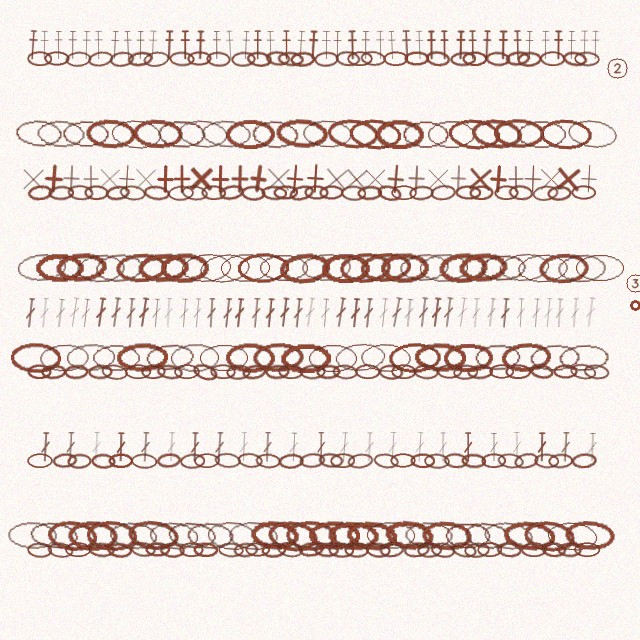chain: (197, 250, 253, 286), (481, 518, 536, 554), (522, 518, 577, 554), (565, 116, 619, 152), (266, 518, 320, 554), (126, 518, 181, 553), (461, 518, 514, 554), (27, 518, 80, 553), (383, 518, 436, 553), (109, 117, 163, 151), (326, 117, 380, 151), (348, 117, 402, 151), (447, 117, 501, 151), (470, 117, 524, 151), (502, 519, 556, 553), (545, 519, 599, 553), (46, 518, 98, 553), (179, 251, 234, 284), (176, 117, 229, 151), (278, 251, 331, 285), (107, 519, 160, 553), (147, 519, 200, 553), (345, 519, 398, 553), (15, 251, 69, 284), (497, 251, 551, 284), (333, 341, 387, 374), (85, 519, 139, 552), (275, 117, 328, 150), (93, 251, 146, 284), (359, 251, 412, 284), (143, 341, 196, 374), (500, 341, 553, 374), (165, 519, 218, 552), (205, 519, 258, 552), (227, 519, 280, 552), (285, 519, 338, 552), (516, 252, 570, 284), (13, 117, 65, 150), (55, 251, 107, 284), (339, 251, 391, 284), (398, 251, 450, 284), (249, 519, 301, 552), (564, 519, 616, 552), (200, 118, 253, 150), (301, 118, 354, 150), (539, 118, 592, 150), (38, 342, 91, 374), (528, 342, 581, 374), (557, 342, 610, 374), (438, 251, 489, 284), (458, 251, 509, 284), (35, 118, 87, 150), (85, 118, 137, 150), (132, 118, 184, 150), (115, 252, 167, 284), (137, 252, 189, 284), (327, 520, 379, 552), (421, 520, 473, 552), (219, 252, 272, 283), (237, 252, 290, 283), (300, 252, 353, 283), (252, 342, 305, 373), (359, 342, 412, 373), (388, 342, 441, 373), (250, 118, 301, 150), (75, 252, 126, 284), (478, 252, 529, 284), (538, 252, 589, 284), (556, 252, 607, 284), (185, 520, 236, 552), (155, 118, 207, 149), (418, 252, 470, 283), (65, 342, 117, 373), (116, 342, 168, 373), (414, 342, 466, 373), (6, 520, 58, 551), (67, 520, 119, 551), (308, 520, 360, 551), (365, 520, 417, 551), (403, 520, 455, 551), (493, 118, 544, 149), (10, 342, 61, 373), (169, 342, 220, 373), (225, 342, 276, 373), (515, 119, 567, 149), (574, 253, 626, 283), (198, 343, 250, 373), (160, 252, 210, 283), (380, 252, 430, 283), (473, 342, 523, 373), (225, 119, 276, 149), (426, 119, 477, 149), (258, 253, 309, 283), (91, 343, 142, 373), (280, 343, 331, 373), (307, 343, 358, 373), (443, 343, 494, 373), (61, 119, 111, 149), (375, 119, 425, 149), (401, 119, 451, 149), (35, 253, 85, 283), (321, 253, 371, 283), (443, 521, 493, 551), (191, 361, 219, 383), (450, 540, 478, 560), (288, 183, 315, 203), (376, 183, 403, 203), (569, 362, 597, 381), (276, 540, 304, 559), (218, 183, 245, 202), (528, 362, 555, 381), (513, 451, 540, 470), (87, 50, 114, 68), (143, 50, 170, 68), (119, 184, 146, 202), (143, 184, 170, 202), (181, 184, 208, 202), (532, 184, 559, 202), (101, 363, 128, 381), (156, 363, 183, 381), (241, 363, 268, 381), (583, 363, 610, 381), (347, 452, 374, 470), (497, 452, 524, 470), (47, 541, 74, 559), (109, 50, 135, 68), (127, 50, 153, 68), (246, 50, 272, 68), (562, 50, 588, 68), (105, 184, 131, 202), (373, 452, 399, 470), (430, 541, 456, 559), (67, 184, 94, 201), (214, 452, 241, 469), (299, 452, 326, 469), (403, 541, 430, 558), (265, 50, 291, 67), (335, 50, 361, 67), (360, 50, 386, 67), (425, 50, 451, 67), (505, 50, 531, 67), (27, 184, 53, 201), (430, 184, 456, 201), (508, 184, 534, 201), (52, 452, 78, 469), (156, 452, 182, 469), (237, 452, 263, 469), (318, 452, 344, 469), (443, 452, 469, 469), (571, 452, 597, 469), (130, 541, 156, 558), (298, 541, 324, 558), (379, 541, 405, 558), (496, 541, 522, 558), (541, 541, 567, 558), (65, 51, 92, 67), (277, 51, 304, 67), (88, 542, 115, 558), (169, 51, 195, 67), (450, 51, 476, 67), (485, 51, 511, 67), (574, 51, 600, 67), (48, 185, 74, 201), (168, 185, 194, 201), (261, 185, 287, 201), (300, 364, 326, 380), (332, 364, 358, 380), (378, 364, 404, 380), (413, 364, 439, 380), (467, 364, 493, 380), (131, 453, 157, 469), (255, 453, 281, 469), (278, 453, 304, 469), (424, 453, 450, 469), (159, 542, 185, 558), (218, 542, 244, 558), (233, 542, 259, 558), (313, 542, 339, 558), (328, 542, 354, 558), (464, 542, 490, 558), (206, 51, 231, 67), (231, 51, 256, 67), (290, 51, 315, 67), (314, 51, 339, 67), (517, 51, 542, 67), (241, 185, 266, 201), (341, 185, 366, 201), (357, 185, 382, 201), (409, 185, 434, 201), (547, 185, 572, 201), (41, 364, 66, 380), (64, 364, 89, 380), (88, 364, 113, 380), (226, 364, 251, 380), (265, 364, 290, 380), (316, 364, 341, 380), (453, 364, 478, 380), (67, 453, 92, 469), (91, 453, 116, 469), (180, 453, 205, 469), (461, 453, 486, 469), (534, 453, 559, 469), (548, 453, 573, 469), (27, 542, 52, 558), (107, 542, 132, 558), (261, 542, 286, 558), (344, 542, 369, 558), (366, 542, 391, 558), (417, 542, 442, 558), (557, 542, 582, 558), (44, 51, 70, 66), (347, 51, 373, 66), (391, 185, 417, 200), (455, 185, 481, 200), (125, 364, 151, 379), (174, 364, 200, 379), (210, 364, 236, 379), (505, 364, 531, 379), (27, 453, 53, 468), (194, 453, 220, 468), (390, 453, 416, 468), (65, 542, 91, 557), (521, 542, 547, 557), (574, 542, 600, 557), (27, 51, 52, 66), (187, 51, 212, 66), (383, 51, 408, 66), (404, 51, 429, 66), (462, 51, 487, 66), (540, 51, 565, 66), (84, 185, 109, 200), (201, 185, 226, 200), (273, 185, 298, 200), (304, 185, 329, 200), (319, 185, 344, 200), (469, 185, 494, 200), (494, 185, 519, 200), (571, 185, 596, 200), (27, 364, 52, 379), (141, 364, 166, 379), (278, 364, 303, 379), (355, 364, 380, 379), (391, 364, 416, 379), (437, 364, 462, 379), (489, 364, 514, 379), (553, 364, 578, 379), (108, 453, 133, 468), (330, 453, 355, 468), (410, 453, 435, 468), (481, 453, 506, 468), (145, 542, 170, 557), (179, 542, 204, 557), (193, 542, 218, 557), (245, 542, 270, 557), (477, 542, 502, 557)
double: (389, 297, 404, 328), (67, 297, 81, 328), (94, 297, 108, 328), (109, 297, 123, 328), (137, 297, 151, 328), (303, 297, 317, 328), (334, 297, 348, 328), (455, 297, 469, 328), (278, 297, 291, 328), (417, 297, 430, 328), (430, 297, 443, 328), (442, 297, 455, 328), (485, 297, 498, 328), (584, 297, 597, 328), (24, 298, 37, 328), (38, 298, 51, 328), (54, 298, 67, 328), (79, 298, 92, 328), (221, 298, 234, 328), (233, 298, 246, 328), (349, 298, 362, 328), (362, 298, 375, 328), (377, 298, 390, 328), (125, 298, 137, 328), (150, 298, 162, 328), (178, 298, 190, 328), (191, 298, 203, 328), (250, 298, 262, 328), (264, 298, 276, 328), (292, 298, 304, 328), (319, 298, 331, 328), (403, 298, 415, 328), (470, 298, 482, 328), (499, 298, 511, 328), (530, 298, 542, 328), (542, 298, 554, 328), (569, 298, 581, 328), (338, 432, 350, 462), (163, 298, 174, 328), (206, 298, 217, 328), (515, 298, 526, 328), (554, 298, 565, 328), (40, 432, 51, 462), (65, 432, 76, 462), (91, 432, 102, 462), (140, 432, 151, 462), (166, 432, 177, 462), (214, 432, 225, 462), (238, 432, 249, 462), (262, 432, 273, 462), (288, 432, 299, 462), (364, 432, 375, 462), (387, 432, 398, 462), (414, 432, 425, 462), (560, 432, 571, 462), (587, 432, 598, 462), (116, 432, 126, 462), (190, 432, 200, 462), (316, 432, 326, 462), (438, 432, 448, 462), (463, 432, 473, 462), (489, 432, 499, 462), (512, 432, 522, 462), (537, 432, 547, 462)
half_double: (146, 30, 159, 60), (400, 30, 413, 60), (27, 30, 39, 60), (109, 30, 121, 60), (122, 30, 134, 60), (163, 30, 175, 60), (179, 30, 191, 60), (224, 30, 236, 60), (240, 30, 252, 60), (295, 30, 307, 60), (307, 30, 319, 60), (320, 30, 332, 60), (374, 30, 386, 60), (386, 30, 398, 60), (481, 30, 493, 60), (497, 30, 509, 60), (578, 30, 590, 60), (39, 30, 50, 60), (53, 30, 64, 60), (67, 30, 78, 60), (81, 30, 92, 60), (93, 30, 104, 60), (135, 30, 146, 60), (195, 30, 206, 60), (211, 30, 222, 60), (252, 30, 263, 60), (265, 30, 276, 60), (281, 30, 292, 60), (332, 30, 343, 60), (347, 30, 358, 60), (360, 30, 371, 60), (414, 30, 425, 60), (426, 30, 437, 60), (439, 30, 450, 60), (455, 30, 466, 60), (467, 30, 478, 60), (512, 30, 523, 60), (524, 30, 535, 60), (540, 30, 551, 60), (553, 30, 564, 60), (566, 30, 577, 60), (590, 30, 601, 60)
noise: (605, 56, 629, 80), (624, 272, 640, 294), (629, 299, 640, 311)
single: (242, 162, 274, 195), (279, 163, 311, 195), (320, 163, 352, 195), (340, 163, 372, 195), (464, 163, 496, 195), (482, 163, 514, 195), (552, 163, 584, 195), (380, 163, 411, 195), (38, 163, 69, 194), (56, 163, 87, 194), (94, 163, 125, 194), (111, 163, 142, 194), (300, 163, 331, 194), (401, 163, 432, 194), (443, 163, 474, 194), (517, 163, 548, 194), (573, 163, 604, 194), (186, 163, 216, 194), (18, 164, 48, 194), (76, 164, 106, 194), (150, 164, 180, 194), (167, 164, 197, 194), (205, 164, 235, 194), (225, 164, 255, 194), (263, 164, 293, 194), (360, 164, 390, 194), (423, 164, 453, 194), (501, 164, 531, 194), (536, 164, 566, 194), (131, 164, 160, 194)
